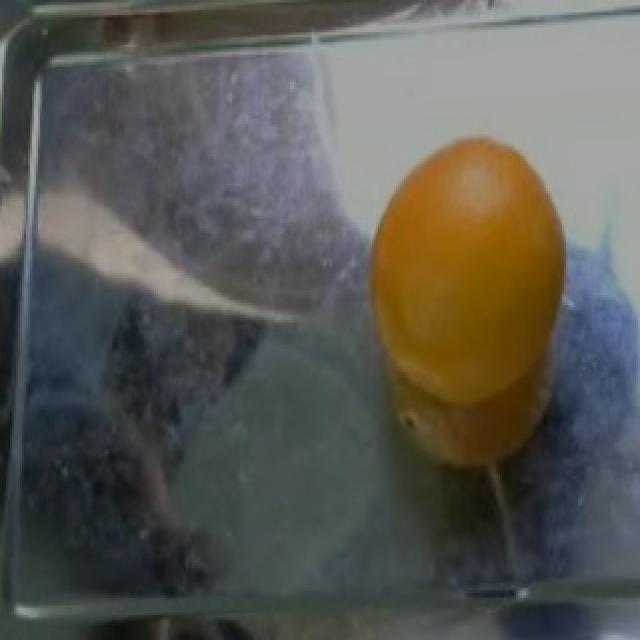Fruit: (352, 121, 588, 498)
